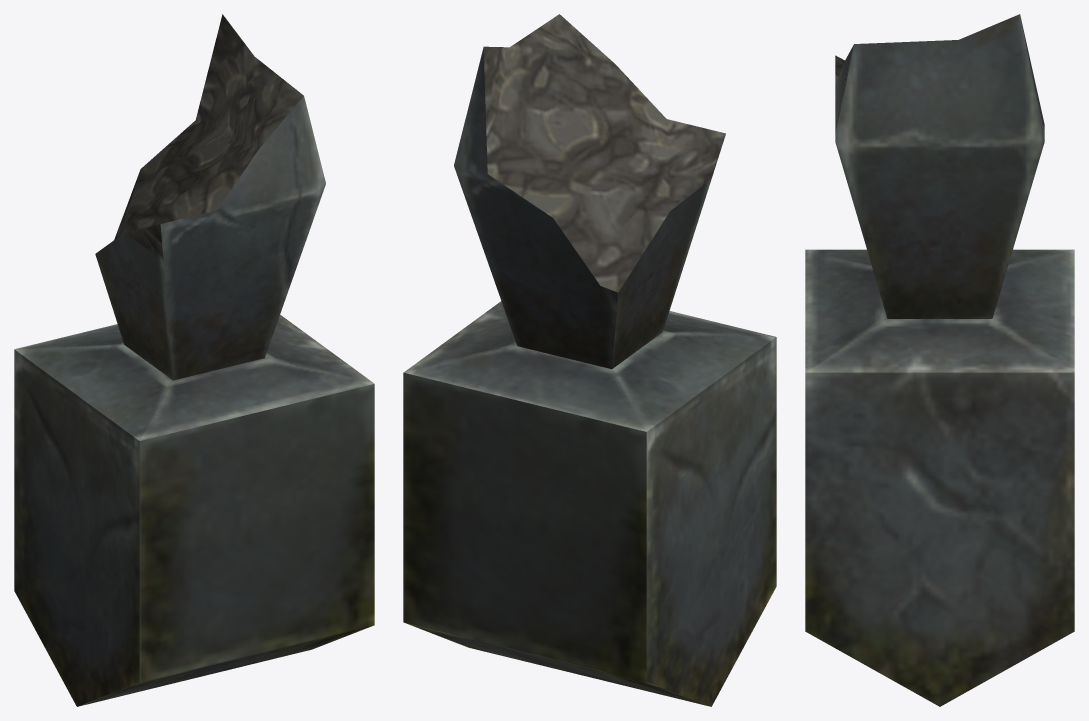
The model's file is F_fushou003.fbx.
3 renders of one model, left to right at view 1: azimuth 30°, elevation 25°; view 2: azimuth 150°, elevation 25°; view 3: azimuth 270°, elevation 25°, orthographic. The views are drawn at different scales.
Parts seen in each view (by area): view 1: F_fushou003; view 2: F_fushou003; view 3: F_fushou003.
Part boxes in pixels (x1,y1,x2,y2): F_fushou003: [14, 14, 374, 706]; F_fushou003: [403, 14, 776, 706]; F_fushou003: [805, 14, 1074, 706].
Size of the model in its own units: 37.26 by 94.05 by 34.46.
